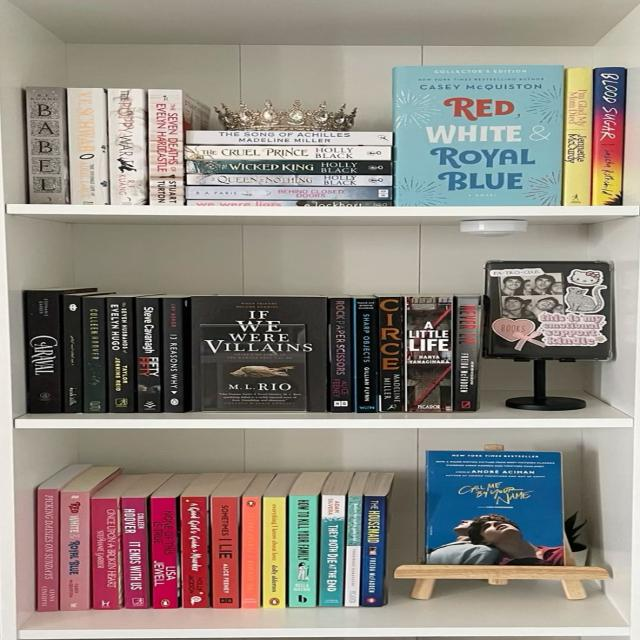book: (407, 296, 453, 412), (26, 87, 70, 203), (109, 88, 148, 204), (25, 291, 62, 413), (70, 88, 107, 204), (148, 89, 182, 206), (566, 69, 592, 206), (597, 67, 622, 206), (180, 497, 210, 608), (62, 493, 90, 610), (93, 498, 121, 610), (150, 498, 178, 609), (185, 146, 392, 160), (122, 498, 148, 609), (212, 498, 238, 608), (110, 298, 134, 412), (138, 298, 162, 412), (186, 187, 392, 200), (381, 296, 404, 412), (290, 495, 314, 606), (84, 298, 107, 413), (37, 489, 58, 611), (356, 298, 378, 413), (456, 297, 478, 411), (186, 132, 394, 144), (186, 161, 392, 173), (332, 298, 353, 413), (241, 497, 261, 608), (322, 496, 342, 606), (362, 496, 382, 606), (164, 298, 183, 412), (188, 175, 392, 185), (65, 296, 82, 413), (265, 498, 282, 608), (185, 200, 392, 206), (347, 495, 358, 606)
